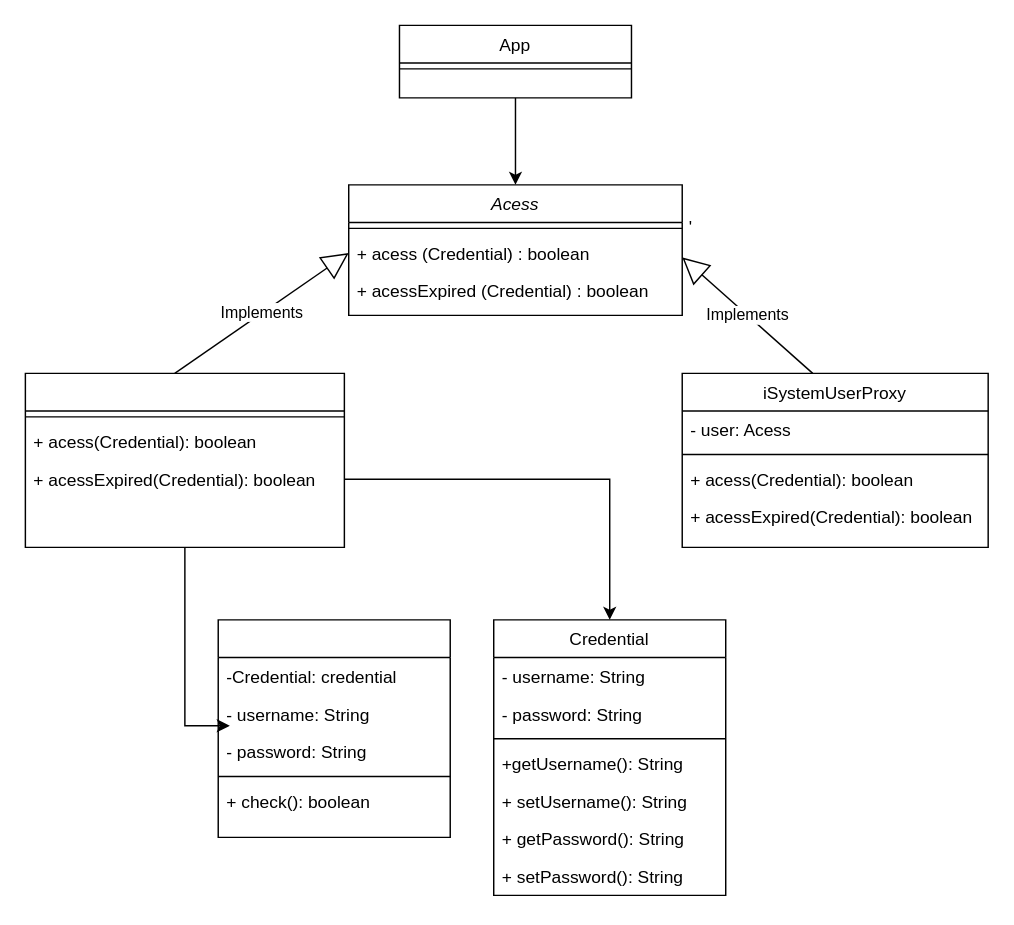
Image size: 1014x925. Some labels were removed from this diagram. The shapes that lost their labels are listed below. From the top down, each one's box as (x1, y1, x2, y2) in pixels, then its label:
(24, 372, 344, 547): iSystemUser
(217, 618, 450, 837): SystemCredential
